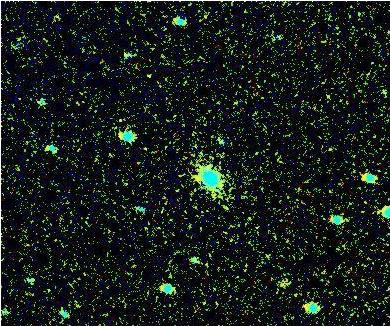star: (269, 268, 299, 298)
